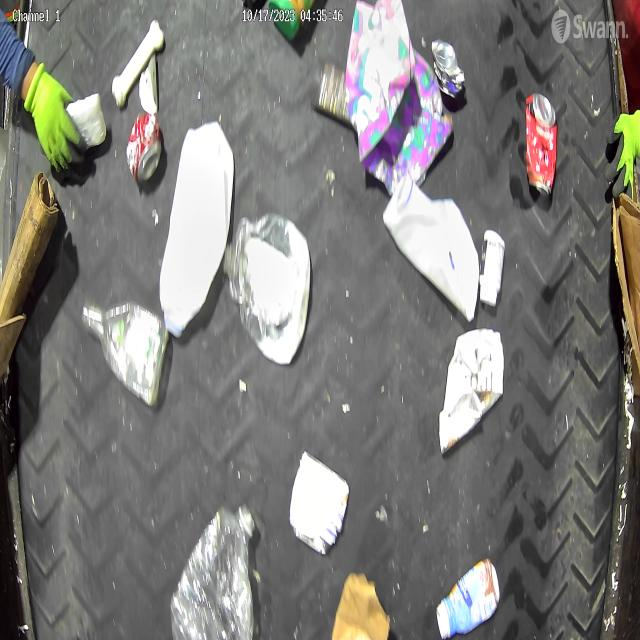can: (523, 90, 559, 200), (126, 110, 162, 183), (430, 36, 466, 98)
milk_jug: (161, 122, 235, 337), (383, 178, 484, 322)
plastic_bottle: (170, 502, 260, 640)
